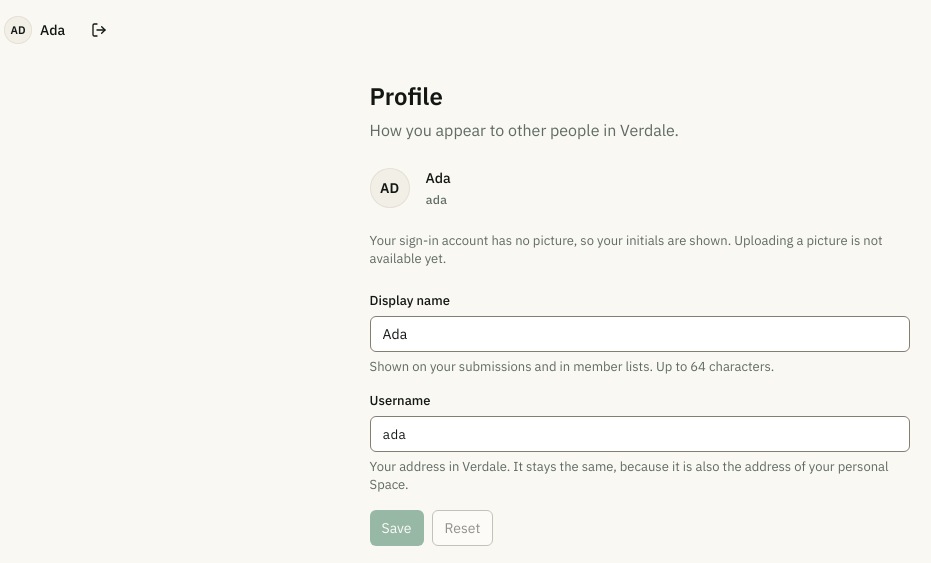
Test case: profile settings (GRD-69) › shows Core’s message next to the field when it refuses the name
Replace the text in the field labelled "Display name" with "Grace". click: (640, 334)
box: [370,316,910,352]
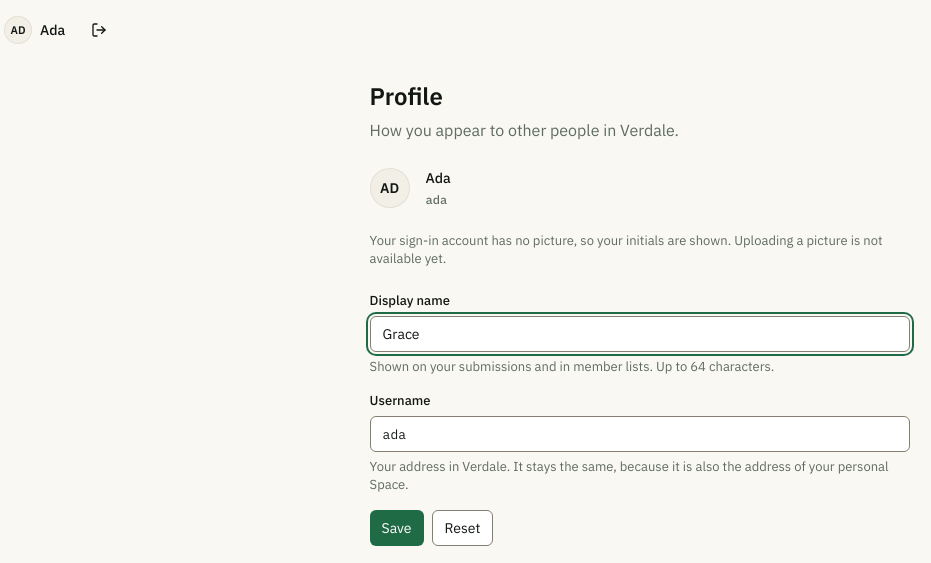
Click the button "Save". click: (397, 528)
box: [370,510,424,546]
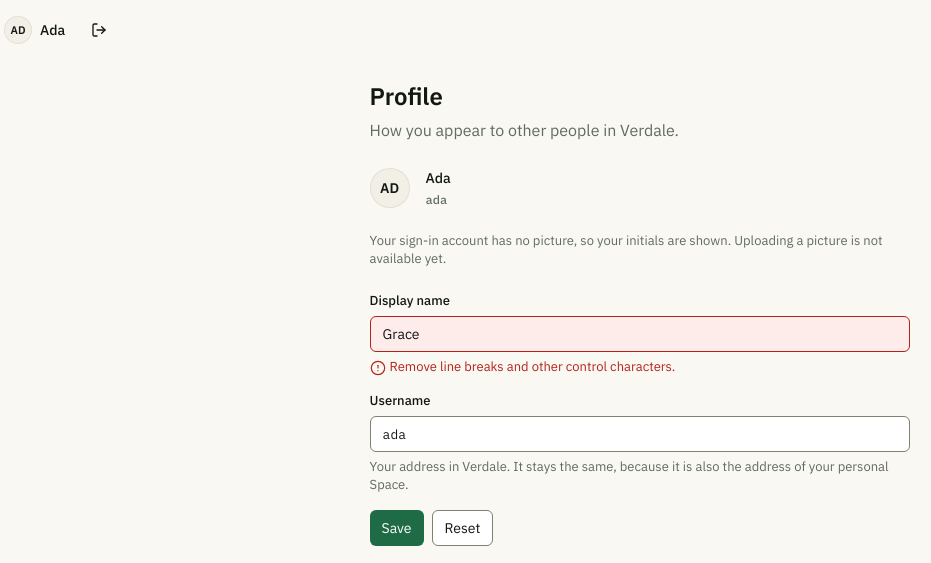
Check: the text "Remove line breaks and other control characters." is shown, box [370,358,675,376]
